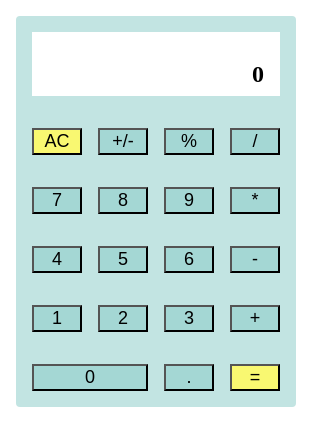
Test: Calculator behavior › should sum two numbers
Click the button "1": (57, 318) top-left (32, 304), bottom-right (82, 332)
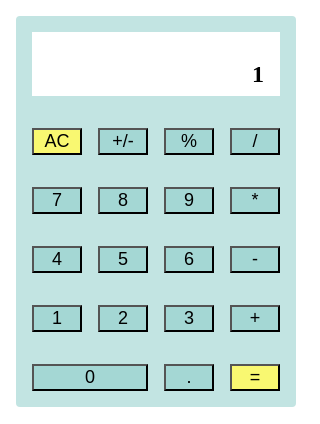
Click the button "+": (255, 318) top-left (230, 304), bottom-right (280, 332)
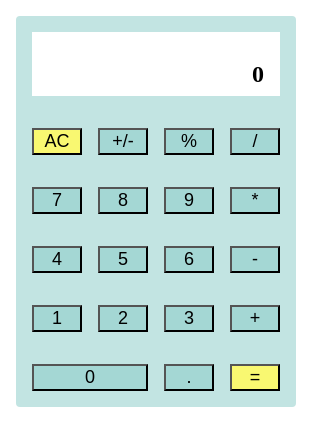
Click the button "2": (123, 318) top-left (98, 304), bottom-right (148, 332)
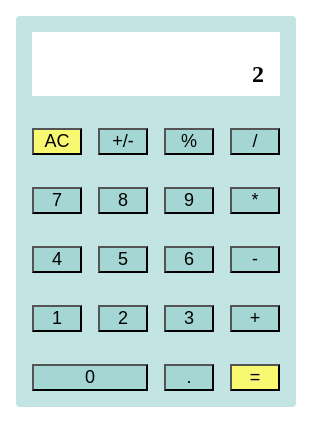
Click the button "=": (255, 377) top-left (230, 364), bottom-right (280, 390)
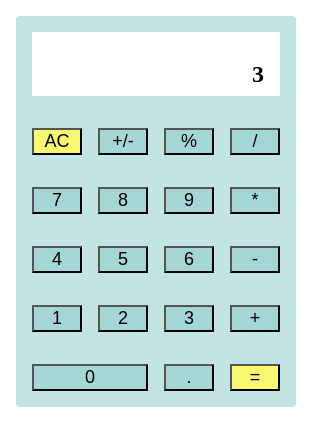
Now the text with test id "screen" reads "3", box top-left (252, 60), bottom-right (264, 86)
